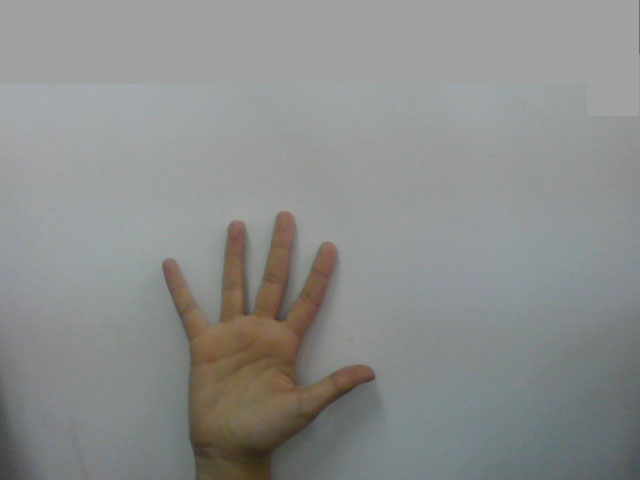hand: (147, 197, 387, 450)
